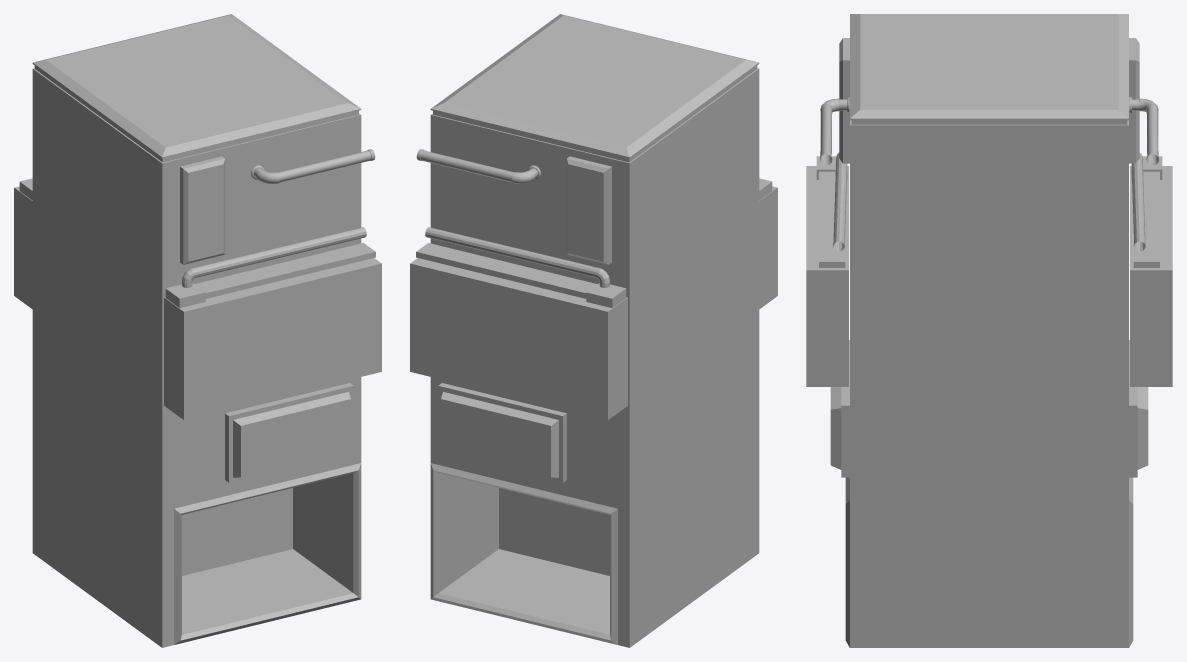
Rendered from KF_SM_OPcenter1.fbx.
3 views of the same model, side by side, from view 1: azimuth 30°, elevation 25°; view 2: azimuth 150°, elevation 25°; view 3: azimuth 270°, elevation 25° (orthographic). The views are drawn at different scales.
Parts seen in each view (by area): view 1: KF_SM_OPcenter1; view 2: KF_SM_OPcenter1; view 3: KF_SM_OPcenter1.
Boxes of the visible parts, x1,y1,x2,y2 form: KF_SM_OPcenter1: (14, 14, 381, 647); KF_SM_OPcenter1: (410, 14, 777, 647); KF_SM_OPcenter1: (806, 14, 1172, 647).
Bounding box in the file's own units: 223 × 528 × 328.
